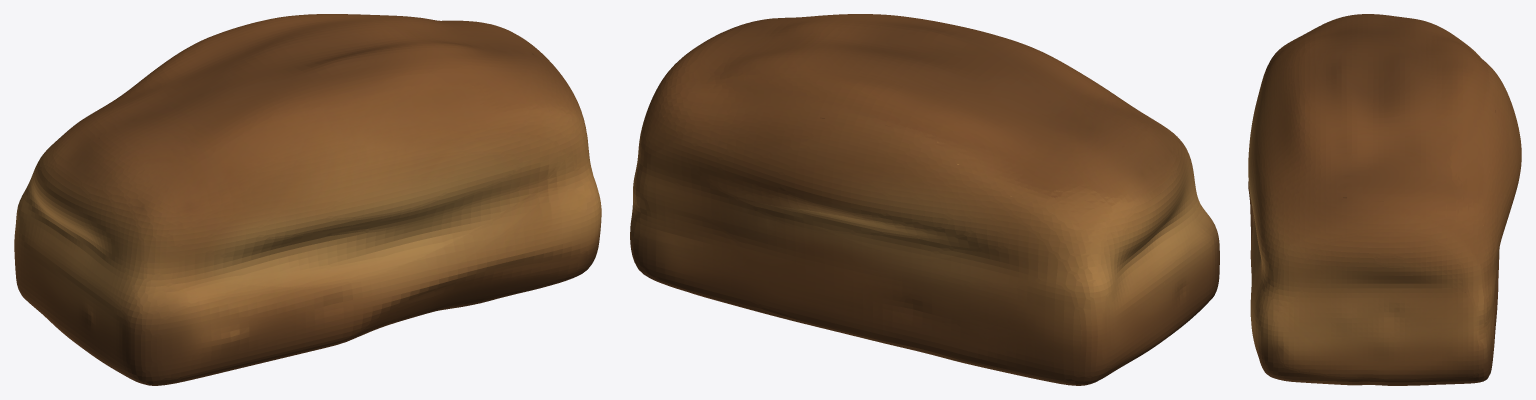
The model's file is Bread1.fbx.
3 renders of one model, left to right at view 1: azimuth 30°, elevation 25°; view 2: azimuth 150°, elevation 25°; view 3: azimuth 270°, elevation 25°, orthographic. The views are drawn at different scales.
Parts seen in each view (by area): view 1: Cube; view 2: Cube; view 3: Cube.
Part boxes in pixels (x1=…): Cube: x1=14, y1=14, x2=601, y2=385; Cube: x1=630, y1=14, x2=1219, y2=385; Cube: x1=1248, y1=14, x2=1521, y2=385.
Size of the model in its own units: 3.92 by 1.88 by 2.07.
